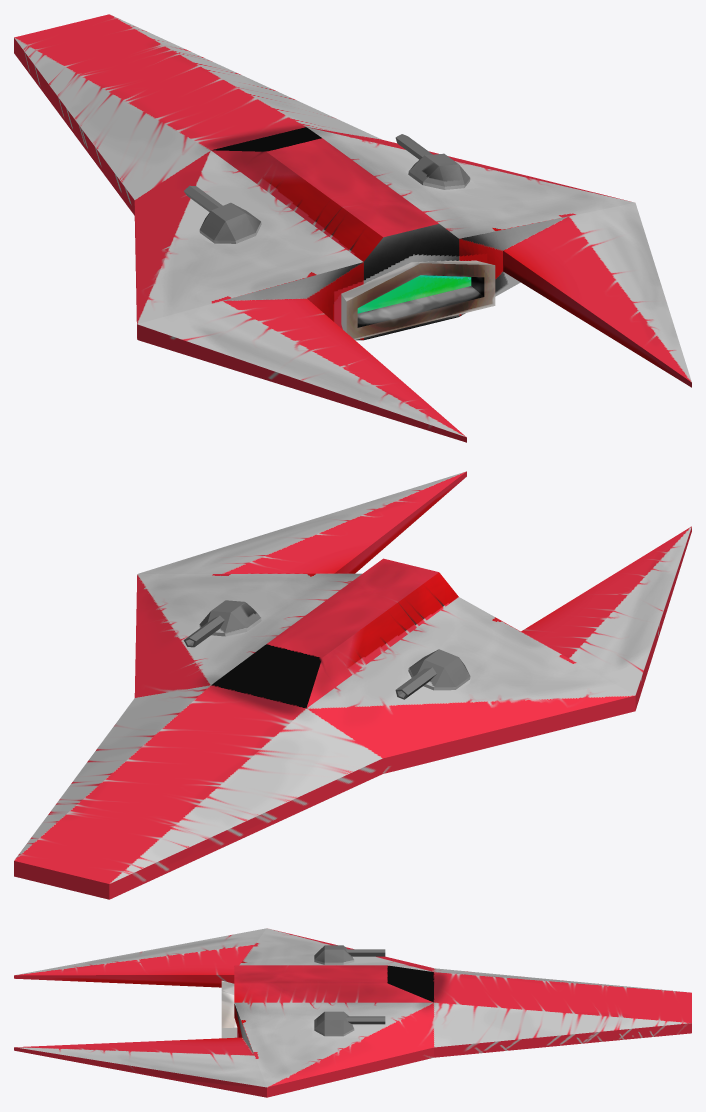
The model's file is ship1.fbx.
The picture shows the model from 3 angles, top to bottom: view 1: azimuth 30°, elevation 25°; view 2: azimuth 150°, elevation 25°; view 3: azimuth 270°, elevation 25°; orthographic projection. The views are drawn at different scales.
Visible parts, largest first — view 1: ship; view 2: ship; view 3: ship.
Boxes of the visible parts, x1=… form: ship: x1=14, y1=14, x2=691, y2=442; ship: x1=14, y1=471, x2=691, y2=899; ship: x1=14, y1=928, x2=691, y2=1097.
Bounding box in the file's own units: 199 × 37.39 × 358.
